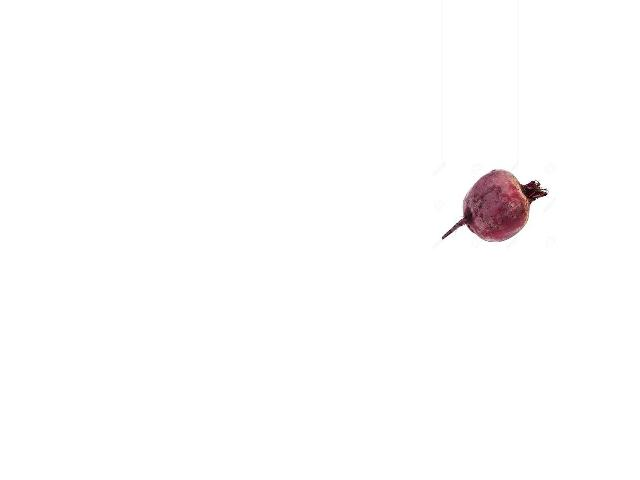beet: (442, 170, 548, 242)
